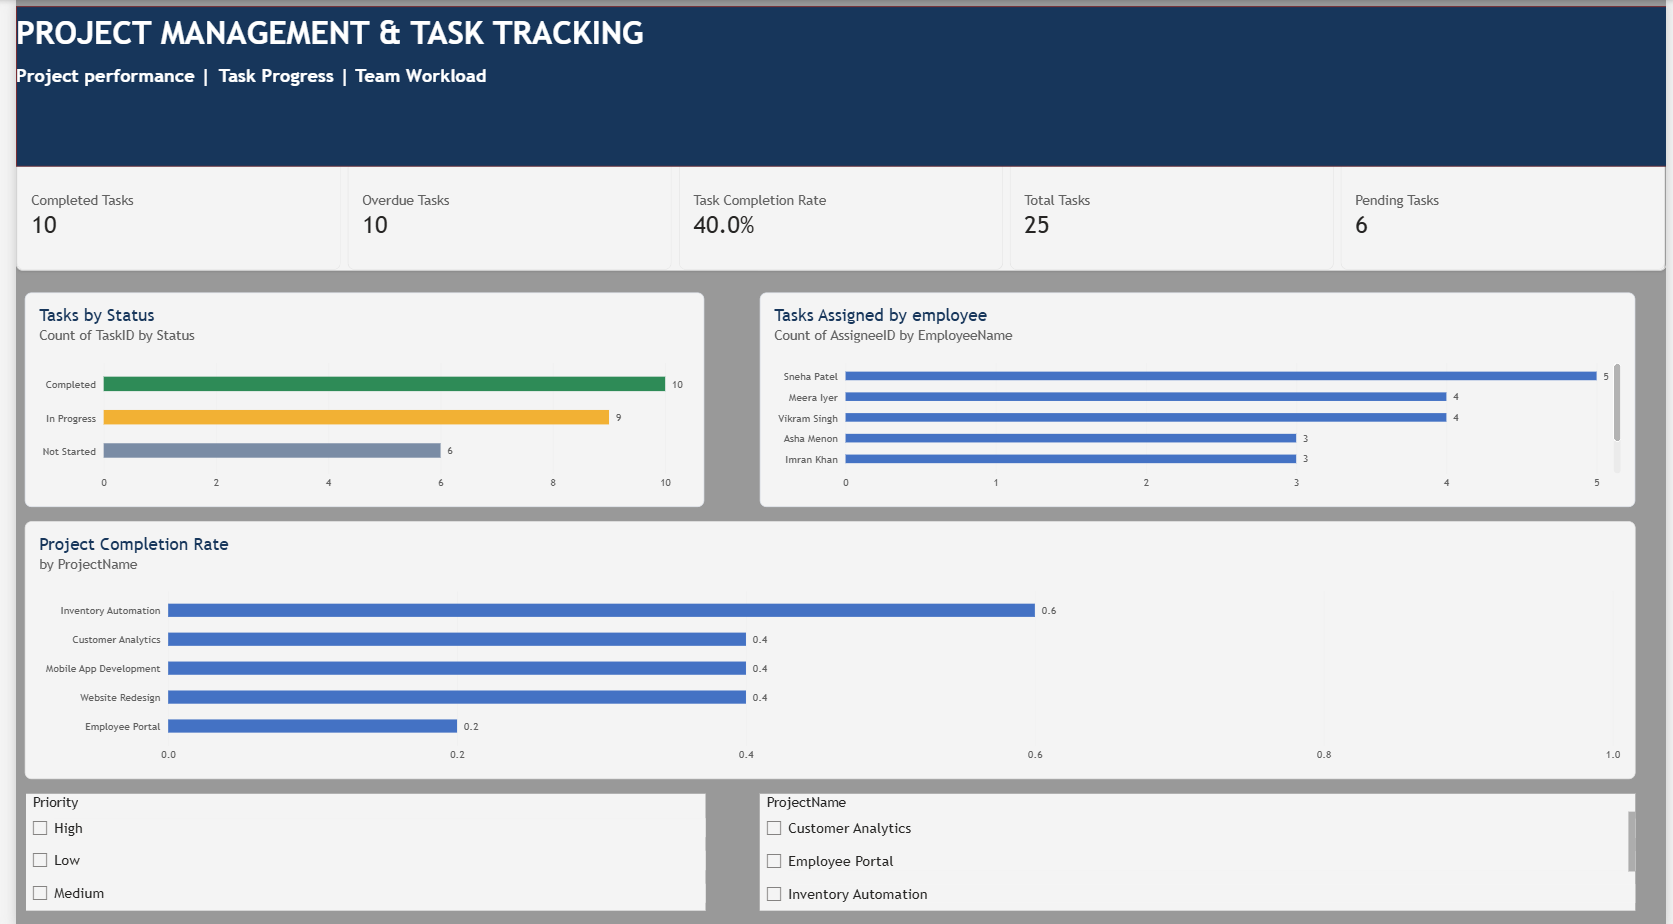

What the dashboard file says about the page in this screenshot:
{"tool":"powerbi","page":{"name":"Page 1","canvas":[1920,1080],"ordinal":0},"visuals":[{"type":"cardVisual","fields":{"Data":["Tasks.Completed Tasks","Tasks.Overdue Tasks","Tasks.Task Completion Rate","Tasks.Total Tasks","Tasks.Pending Tasks"]},"box":[0,186.6,1920.4,129.1],"z":0},{"type":"clusteredBarChart","title":"Tasks by Status","fields":{"Category":["Tasks.Status"],"Y":["CountNonNull(Tasks.TaskID)"]},"box":[10.5,340.1,790.1,249.4],"z":1000},{"type":"clusteredBarChart","title":"Tasks Assigned by employee","fields":{"Category":["Team.EmployeeName"],"Y":["CountNonNull(Tasks.AssigneeID)"]},"box":[865.1,340.1,1018.6,249.4],"z":2000},{"type":"slicer","fields":{"Values":["Projects.ProjectName"]},"box":[865.1,922.7,1018.6,136],"z":3000},{"type":"slicer","fields":{"Values":["Tasks.Priority"]},"box":[12.2,922.7,790.1,136],"z":4000},{"type":"textbox","box":[10,45,1910,187],"z":5000},{"type":"shape","box":[0,7,1920.4,186.6],"z":6000},{"type":"textbox","box":[0,0,1920.4,193.6],"z":6001},{"type":"clusteredBarChart","fields":{"Category":["Projects.ProjectName"],"Y":["Tasks.Project Completion Rate"]},"box":[10.5,607,1873.3,300],"z":6002}]}

Visuals, with their boxes in screenshot pixels (x1, y1, x2, y2), scaled from the page's 1920x1080 canvas onto the 1673x924 screenshot:
cardVisual - Tasks.Completed Tasks x Tasks.Overdue Tasks: 0:160:1672:270
"Tasks by Status" clusteredBarChart: 9:291:698:504
"Tasks Assigned by employee" clusteredBarChart: 754:291:1641:504
slicer - Projects.ProjectName: 754:789:1641:906
slicer - Tasks.Priority: 11:789:699:906
textbox: 9:38:1672:198
shape: 0:6:1672:166
textbox: 0:0:1672:166
clusteredBarChart - Projects.ProjectName x Tasks.Project Completion Rate: 9:519:1641:776
